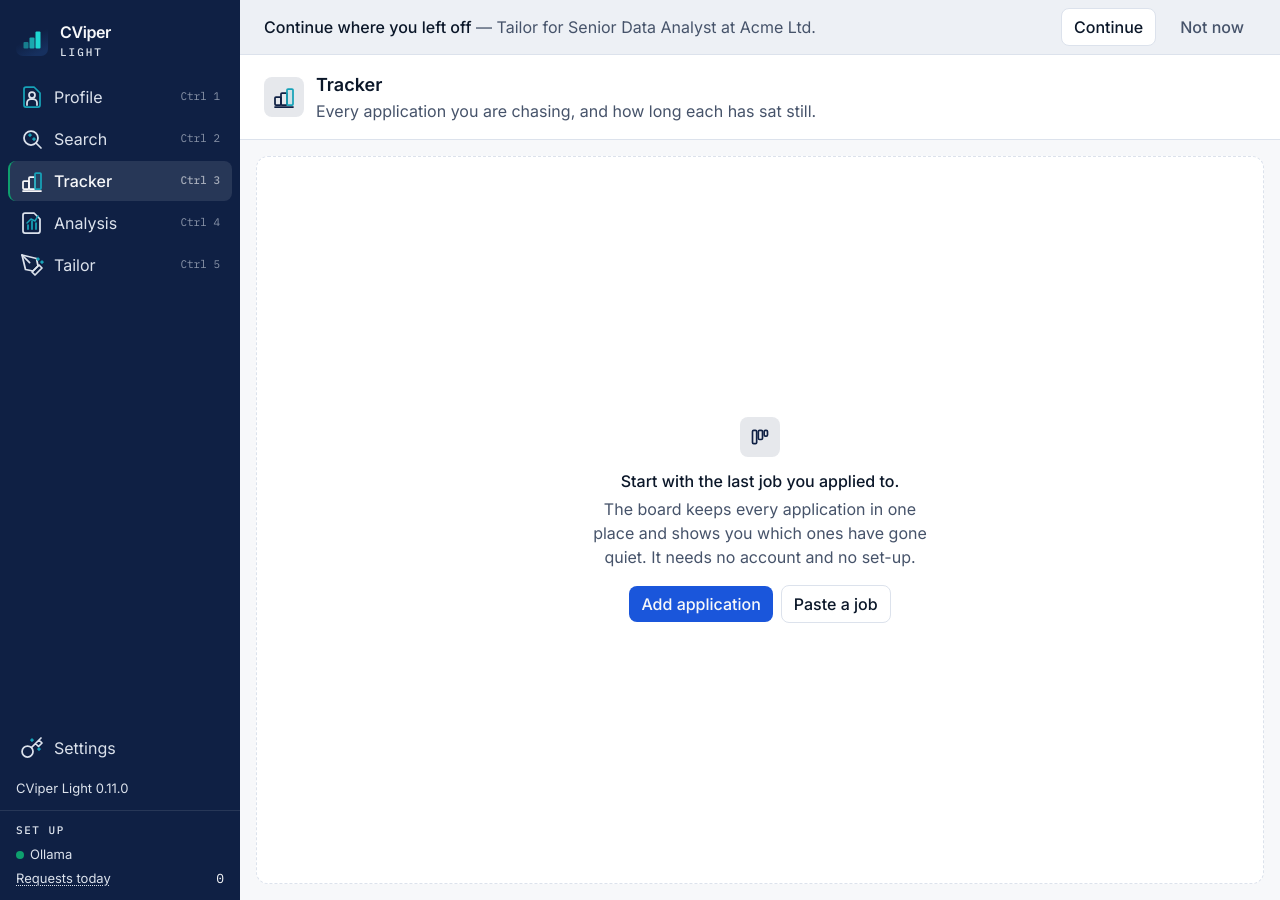
Test case: restarting mid-Tailor (L-199) › "Not now" closes the offer and keeps the work for that job
Click the button with test id "resume-dismiss" at (1212, 27), box [1168, 9, 1256, 45]
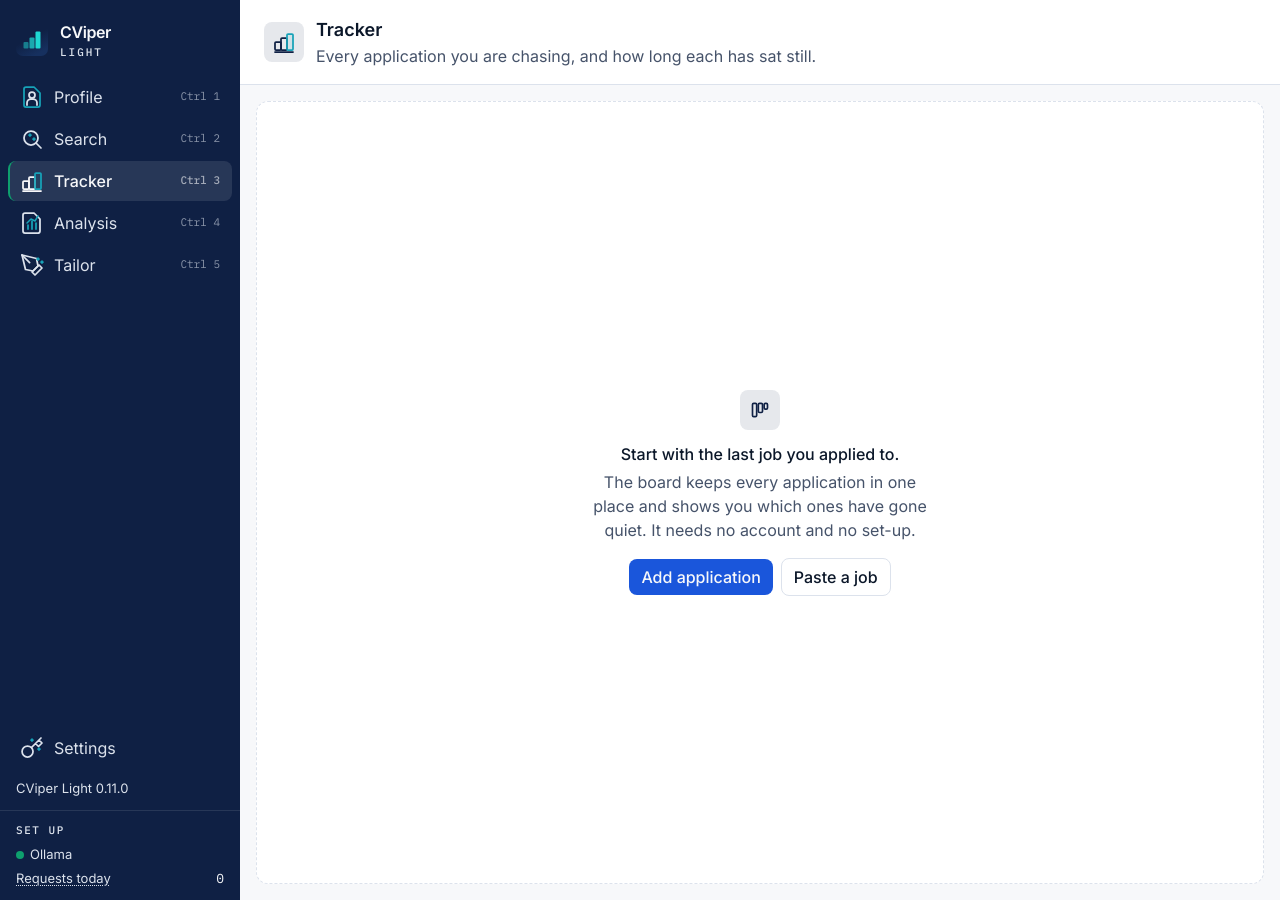
expect the element with test id "resume-banner" is gone: met
Click the button with test id "nav-tailor" at (120, 264), box [8, 244, 232, 284]
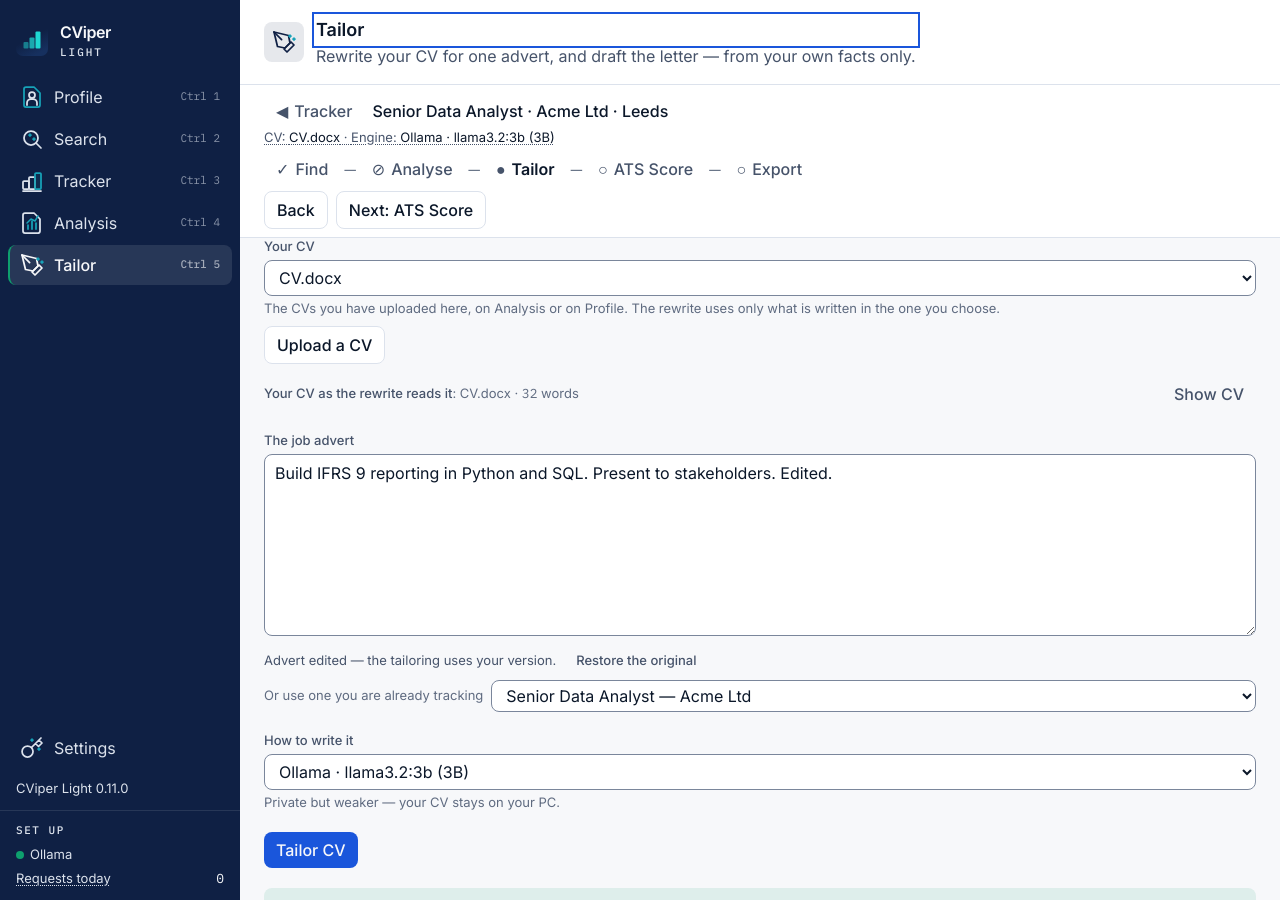
expect the element with test id "view-tailor" is shown: met
expect the text box with test id "tailor-job-text" holds "Build IFRS 9 reporting in Python and SQL. Present to stakeholders. Edited.": met, box [264, 454, 1256, 636]
